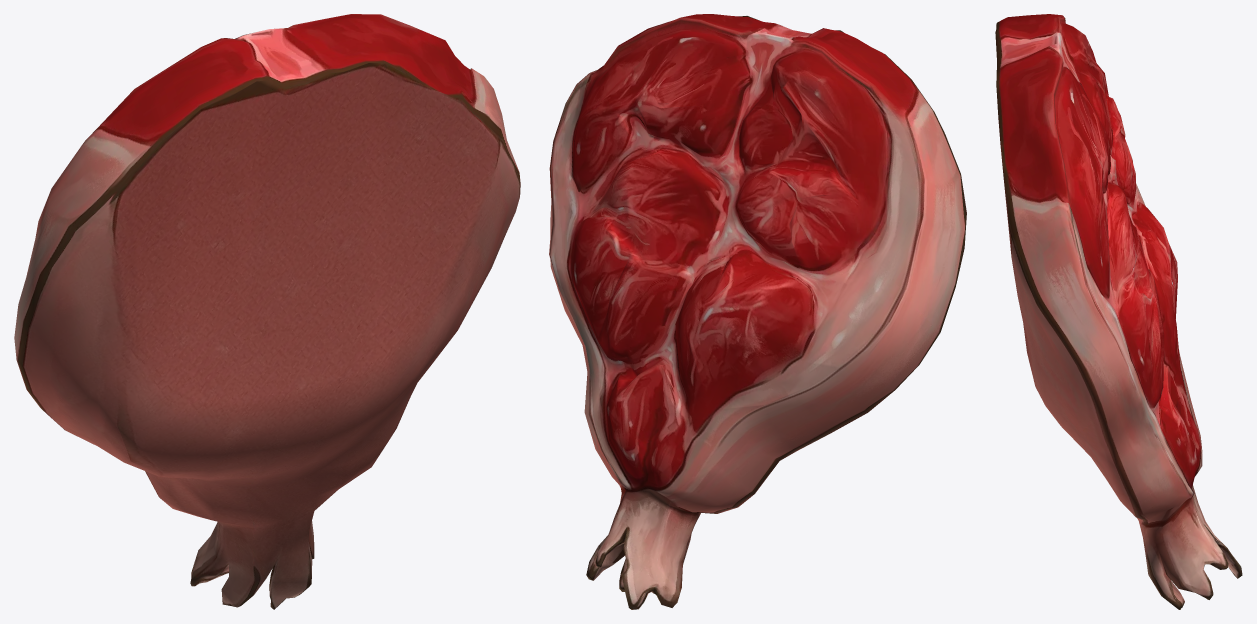
Rendered from meat_raw.glb.
The picture shows the model from 3 angles, left to right: view 1: azimuth 30°, elevation 25°; view 2: azimuth 150°, elevation 25°; view 3: azimuth 270°, elevation 25°; orthographic projection. The views are drawn at different scales.
Size of the model in its own units: 0.7786 by 1 by 0.4189.
Materials: 1 (1 with a texture image).
